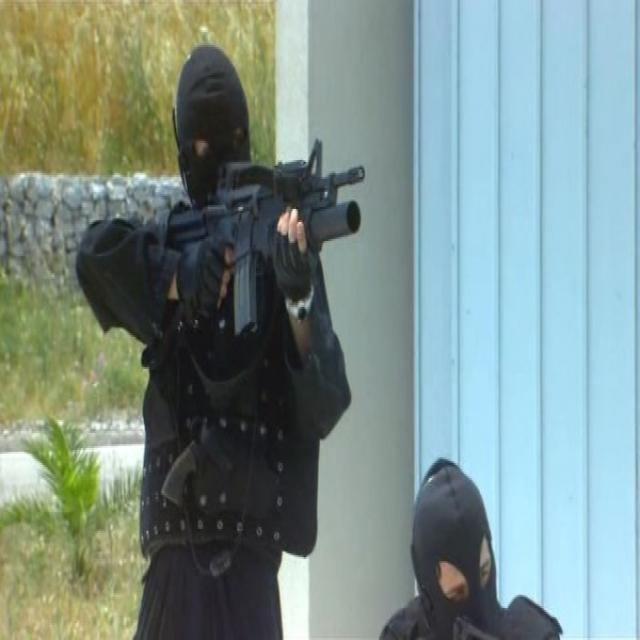rifle: (153, 127, 369, 337)
